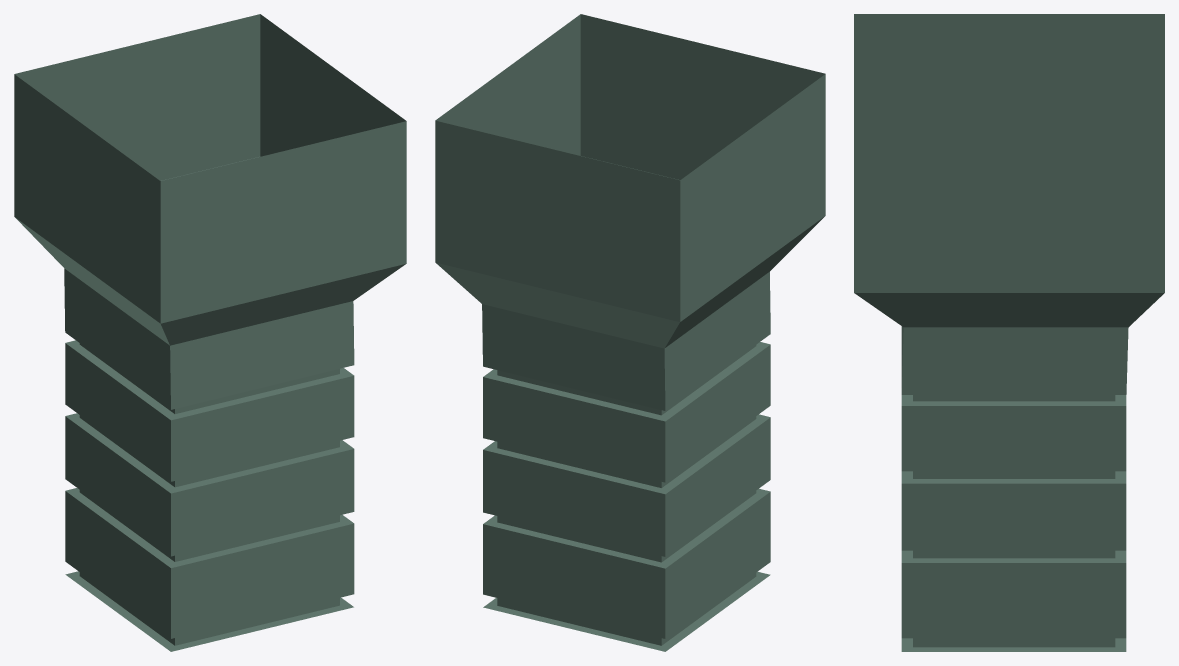
File: columnTop.fbx
The picture shows the model from 3 angles, left to right: view 1: azimuth 30°, elevation 25°; view 2: azimuth 150°, elevation 25°; view 3: azimuth 270°, elevation 25°; orthographic projection. The views are drawn at different scales.
Visible parts, largest first — view 1: columnTop; view 2: columnTop; view 3: columnTop.
Part boxes in pixels (box(x1,y1,x2,y2)): columnTop: box(14, 14, 406, 651); columnTop: box(435, 14, 825, 651); columnTop: box(854, 14, 1164, 651).
Bounding box in the file's own units: 99.96 × 192 × 103.
